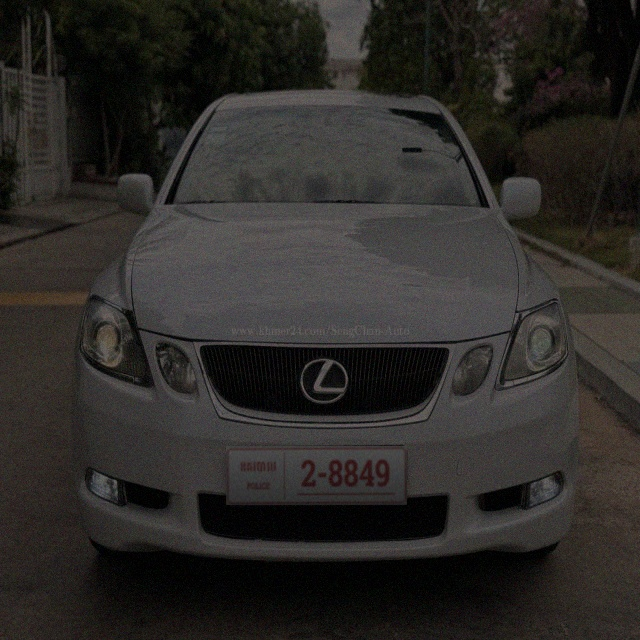Plate Number: (226, 446, 407, 506)
